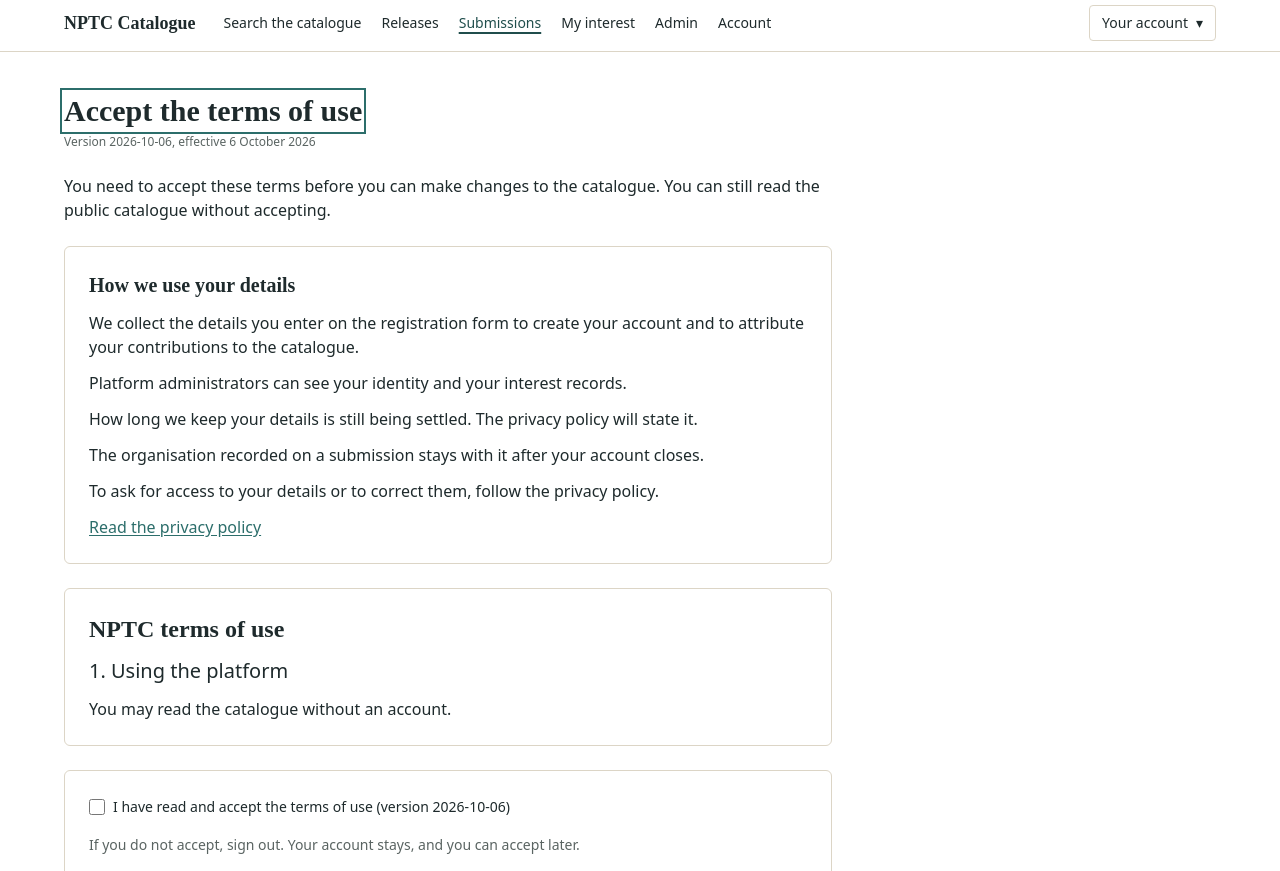
Test: accepting the terms › records acceptance of the displayed version and returns the user to the page
Click the checkbox at (97, 806), box [89,798,105,814]
(page scrolled)
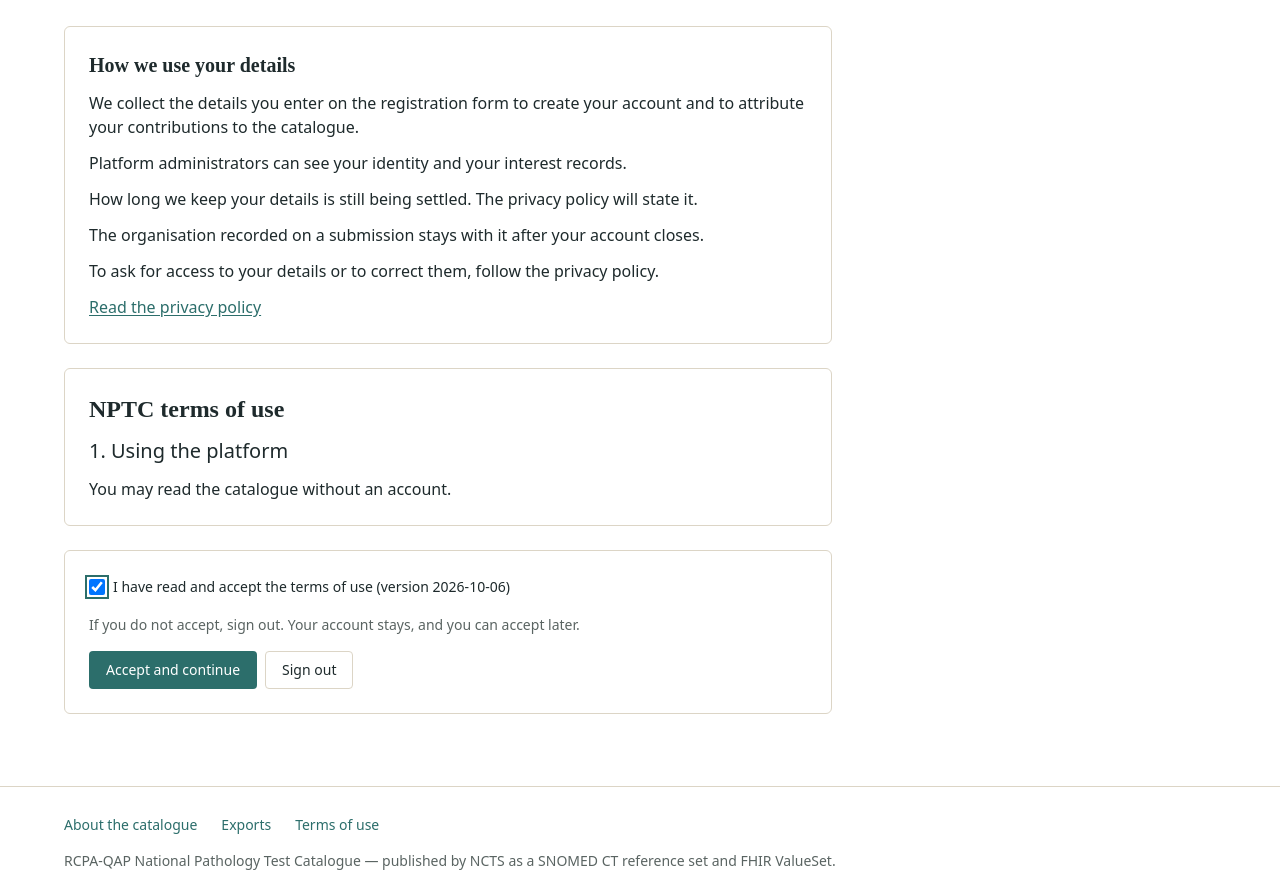
Click the button "Accept and continue" at (173, 670), box [89,650,257,688]
(page scrolled)
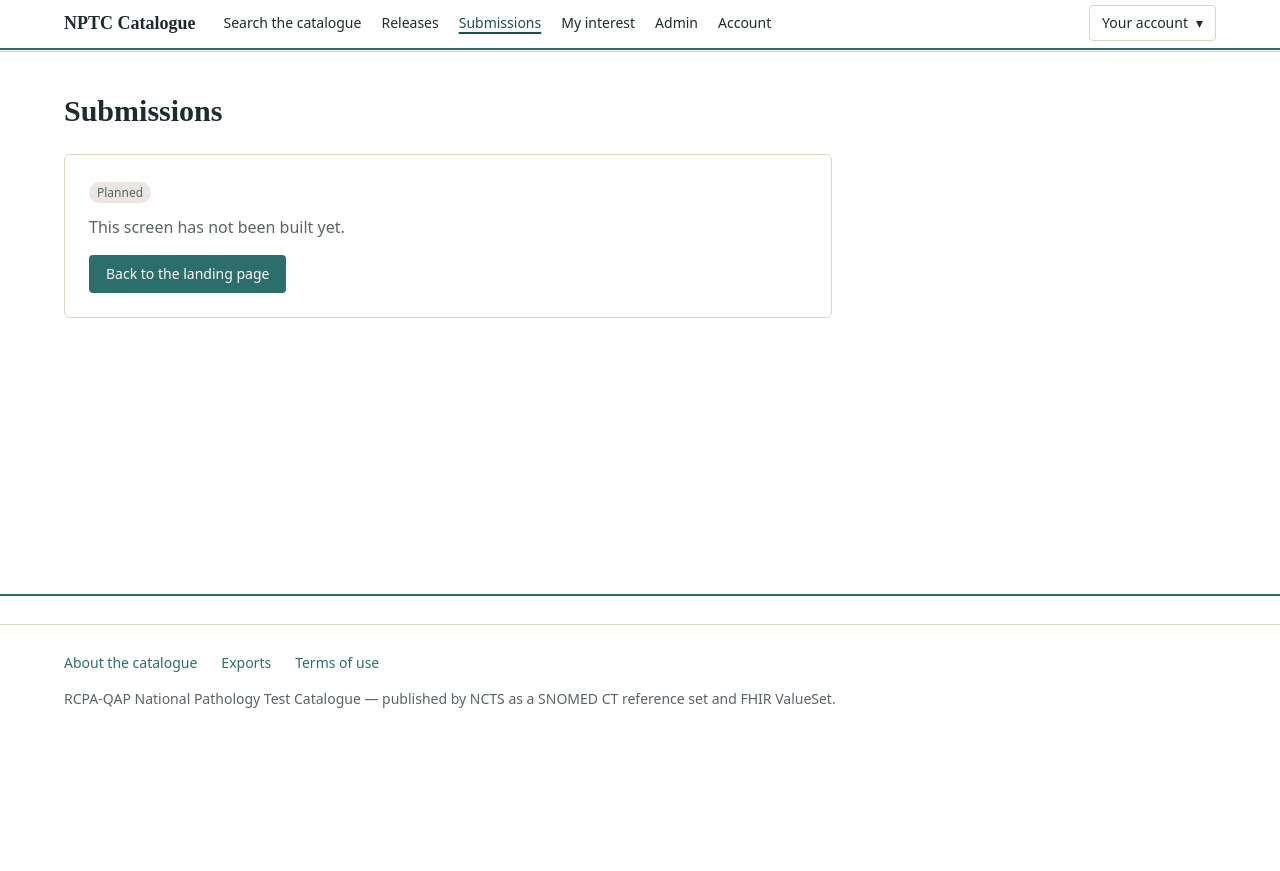
Now the heading "Submissions" is shown, box [64,92,222,130]
Now the label "accept the terms of use" is gone
